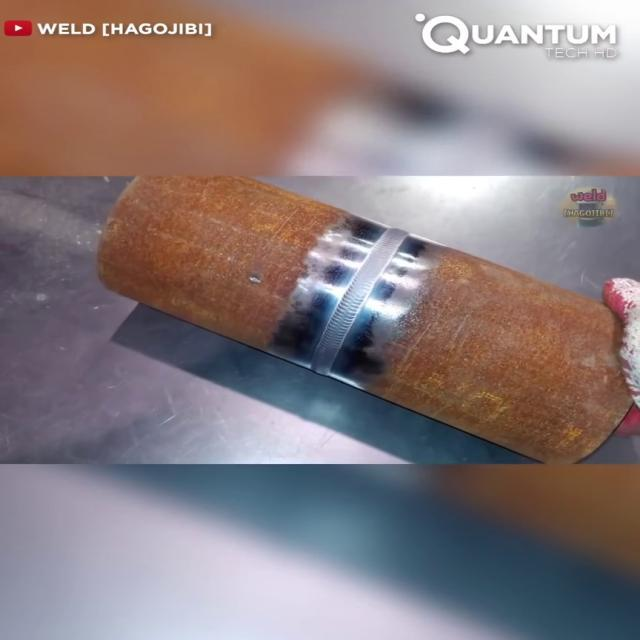Good Welding: (311, 228, 409, 375)
